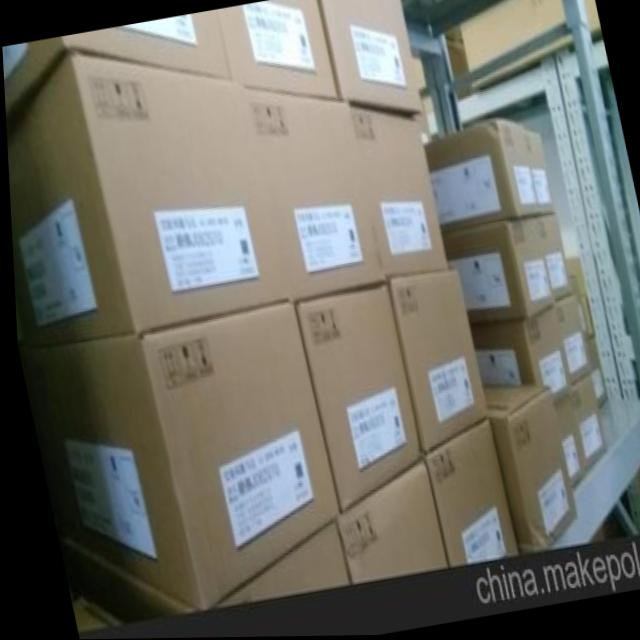box: (14, 302, 336, 612), (6, 55, 287, 348), (234, 81, 383, 303), (2, 10, 232, 137), (293, 284, 415, 512), (340, 100, 446, 280), (385, 272, 484, 456), (479, 385, 573, 555), (419, 419, 515, 569), (331, 461, 443, 586), (422, 119, 539, 233), (440, 217, 552, 326), (318, 0, 421, 118), (218, 0, 338, 100), (212, 521, 345, 607), (467, 307, 568, 405), (460, 0, 567, 73), (566, 375, 602, 474), (549, 396, 582, 493), (552, 297, 587, 387), (535, 218, 568, 303), (525, 131, 552, 216), (582, 340, 603, 409), (568, 277, 588, 343)
